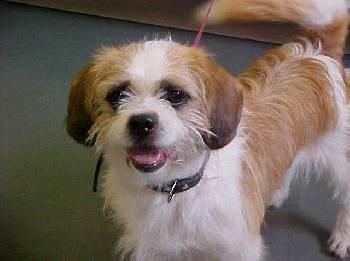dog: (66, 0, 349, 260)
